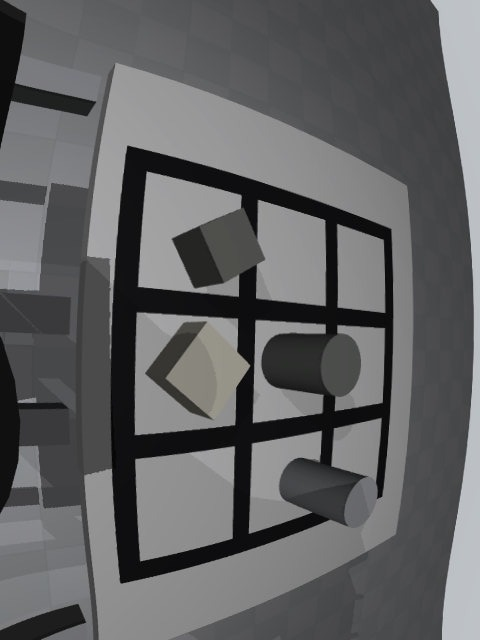can: (279, 458, 378, 528)
cube: (172, 207, 266, 289)
cylinder: (261, 333, 361, 397)
foam: (145, 321, 251, 420)
